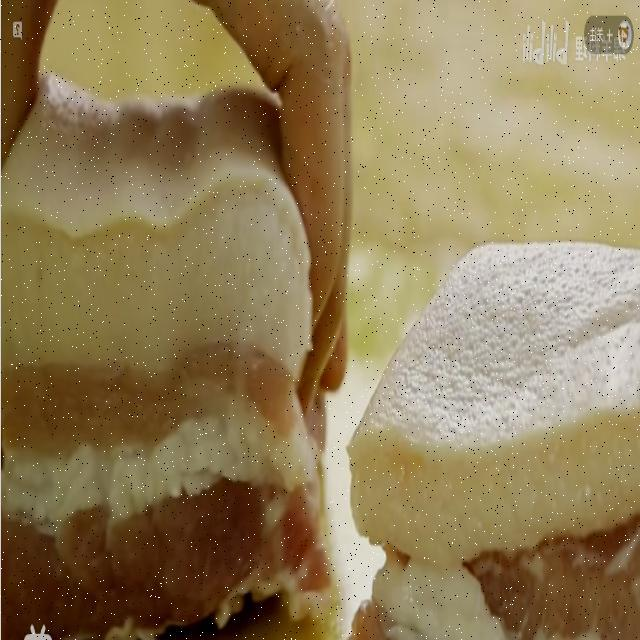pork: (2, 94, 312, 640), (345, 245, 639, 640)
